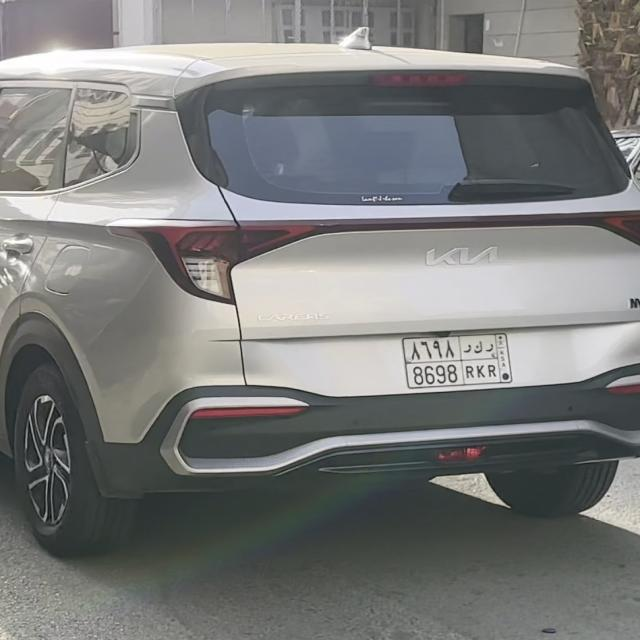Car-plate: (385, 325, 523, 398)
